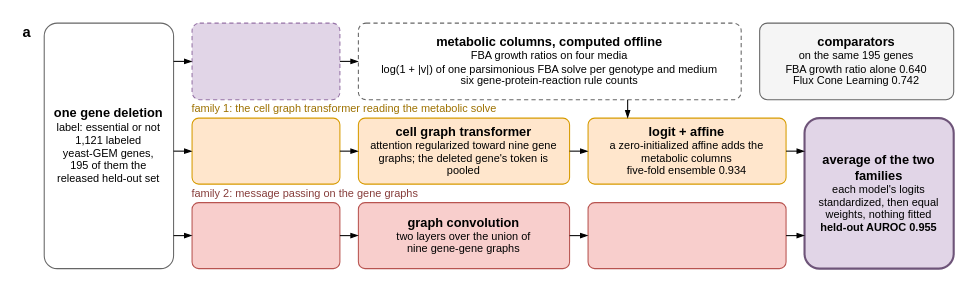
The diagram is 977 pixels wide and 293 high, and some of its shapes have lost their labels. Each missing label, with the centre of its shape:
"gene tokens pathway multi-hot and ProtT5" goes at (265,150).
"node features propagated GO multi-hot, 2,362 columns" goes at (265,234).
"one logit per gene five-fold ensemble 0.917" goes at (686,234).
"yeast-GEM fixed stoichiometry, bounds and gene rules; 4,131 reactions" goes at (265,61).
